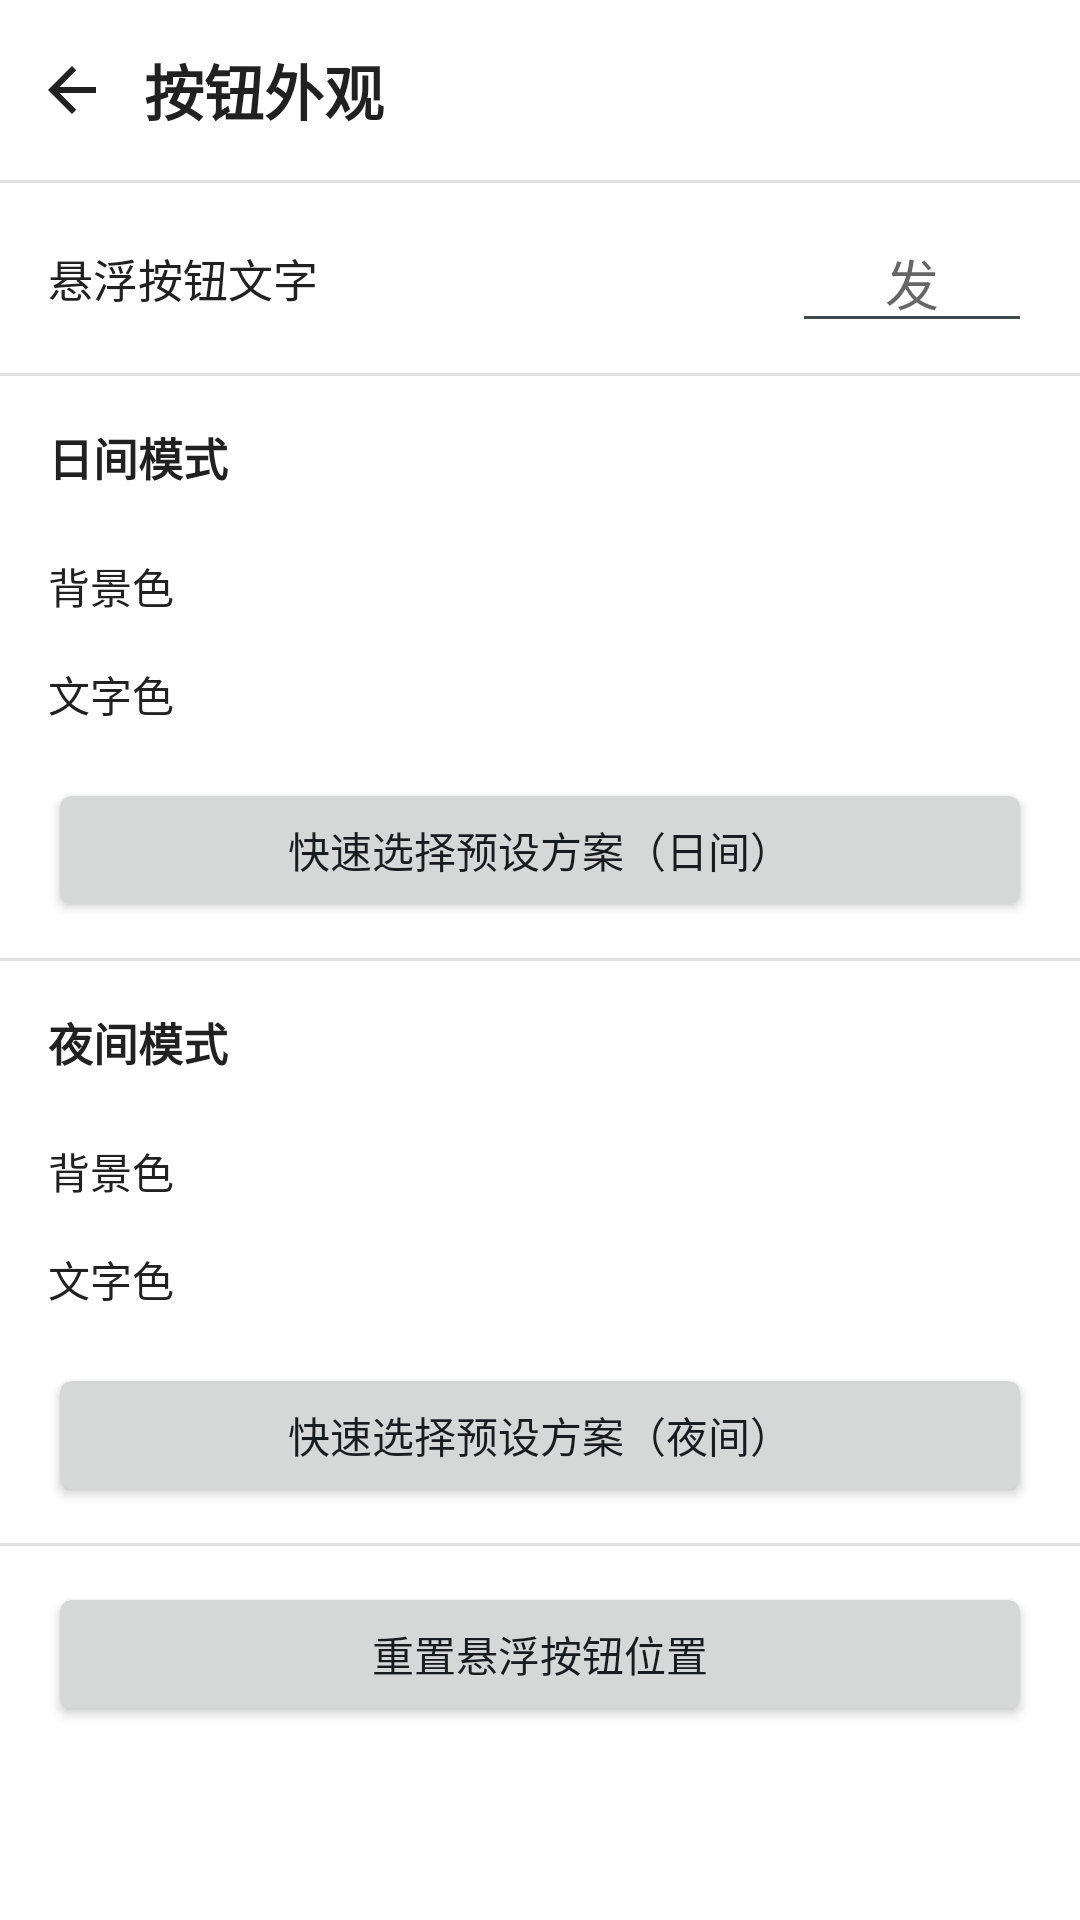

Where icons sit on this 1080px×1920px app screen, as box=[x1, y1, x2, y2]:
返回: box=[48, 66, 96, 114]
